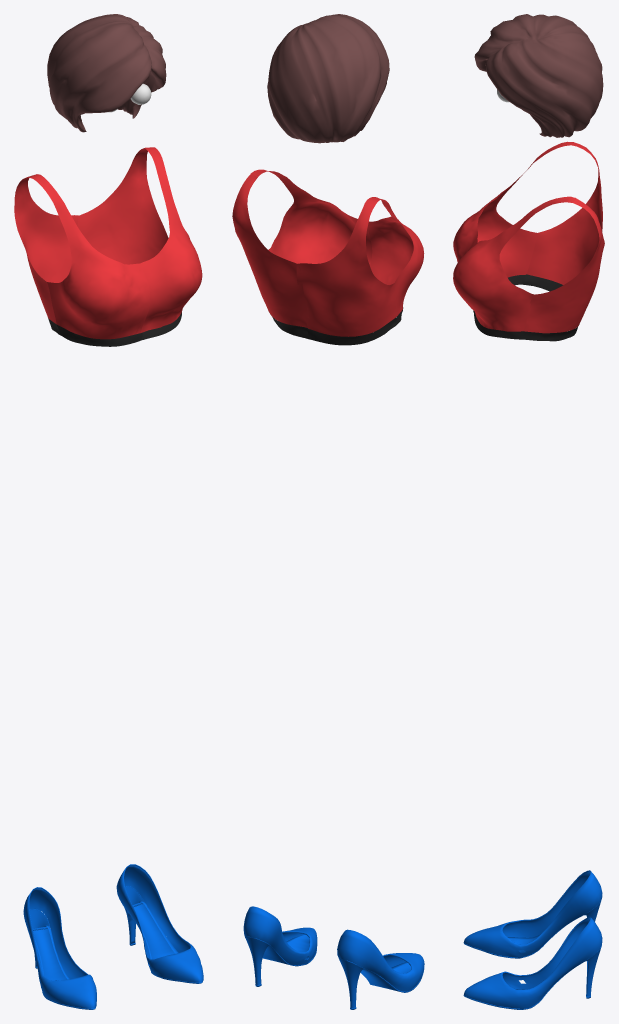
Rendered from mannequin-female-parts.glb.
3 renders of one model, left to right at view 1: azimuth 30°, elevation 25°; view 2: azimuth 150°, elevation 25°; view 3: azimuth 270°, elevation 25°, orthographic.
Parts seen in each view (by area): view 1: hair_Shape, Body_Front.001, Body_Back_2, shoes_l_Shape, Body_Front_2, shoes_r_Shape, Body_Back.001, Body_Front; view 2: hair_Shape, Body_Back.001, Body_Front_2, Body_Back_2, shoes_r_Shape, Body_Front.001, shoes_l_Shape, Body_Back; view 3: hair_Shape, Body_Front_2, shoes_l_Shape, shoes_r_Shape, Body_Back.001, Body_Back_2, Body_Front.001, Body_Back_1, Body_Back, Body_Front_1.
Part boxes in pixels (<box>): hair_Shape: <box>47,14,166,132</box>; Body_Front.001: <box>30,174,149,339</box>; Body_Back_2: <box>77,148,168,264</box>; shoes_l_Shape: <box>116,864,203,983</box>; Body_Front_2: <box>135,147,202,333</box>; shoes_r_Shape: <box>23,887,96,1009</box>; Body_Back.001: <box>14,174,78,323</box>; Body_Front: <box>57,325,142,346</box>; hair_Shape: <box>267,14,389,143</box>; Body_Back.001: <box>296,203,396,336</box>; Body_Front_2: <box>251,169,372,266</box>; Body_Back_2: <box>232,174,309,327</box>; shoes_r_Shape: <box>337,929,424,1009</box>; Body_Front.001: <box>364,197,424,316</box>; shoes_l_Shape: <box>243,906,317,986</box>; Body_Back: <box>307,317,397,345</box>; hair_Shape: <box>474,14,603,137</box>; Body_Front_2: <box>453,196,576,331</box>; shoes_l_Shape: <box>463,916,602,1009</box>; shoes_r_Shape: <box>463,870,602,958</box>; Body_Back.001: <box>526,142,602,284</box>; Body_Back_2: <box>522,197,604,333</box>; Body_Front.001: <box>453,141,577,277</box>; Body_Back_1: <box>519,324,579,341</box>; Body_Back: <box>521,274,562,291</box>; Body_Front_1: <box>473,311,523,339</box>.
Bounding box in the file's own units: 0.4946 × 3.02 × 0.4339.
